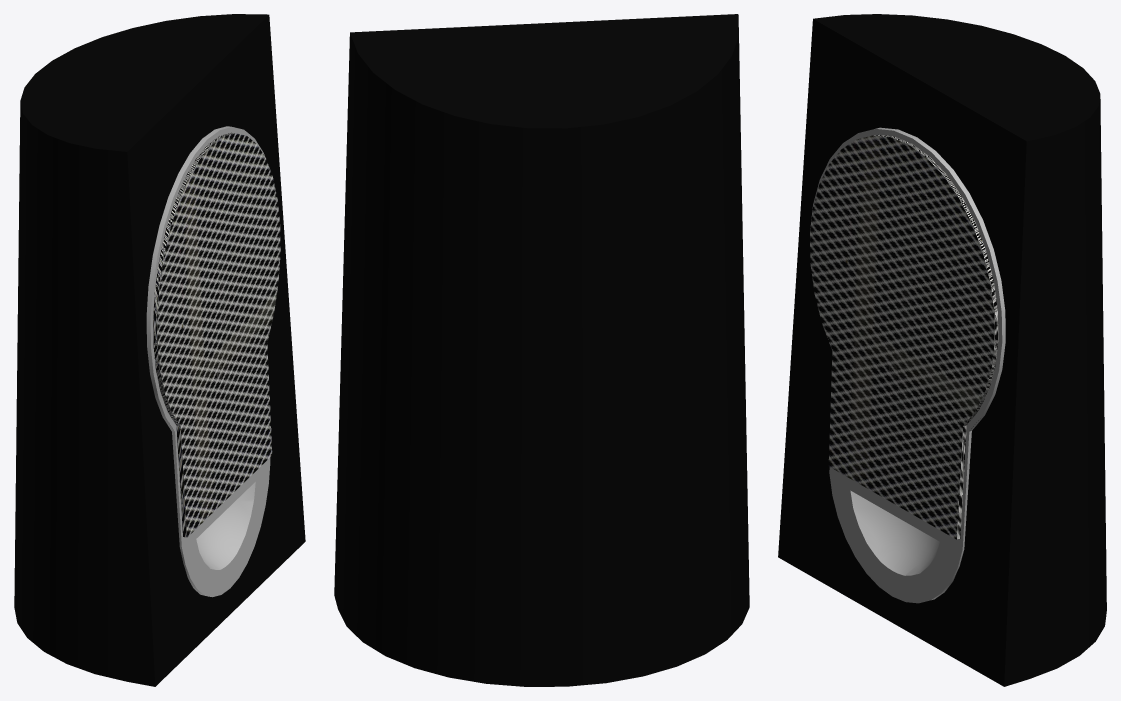
The model's file is NSCassaSX.gltf.
3 views of the same model, side by side, from view 1: azimuth 30°, elevation 25°; view 2: azimuth 150°, elevation 25°; view 3: azimuth 270°, elevation 25° (orthographic). The views are drawn at different scales.
Parts seen in each view (by area): view 1: Bianco Altoparlante SX; view 2: Bianco Altoparlante SX; view 3: Bianco Altoparlante SX.
Boxes of the visible parts, <box> form: Bianco Altoparlante SX: <box>14,14,305,686</box>; Bianco Altoparlante SX: <box>334,14,749,686</box>; Bianco Altoparlante SX: <box>778,14,1106,686</box>.
Bounding box in the file's own units: 0.1007 × 0.1634 × 0.0913.
Materials: 3 (1 with a texture image).
